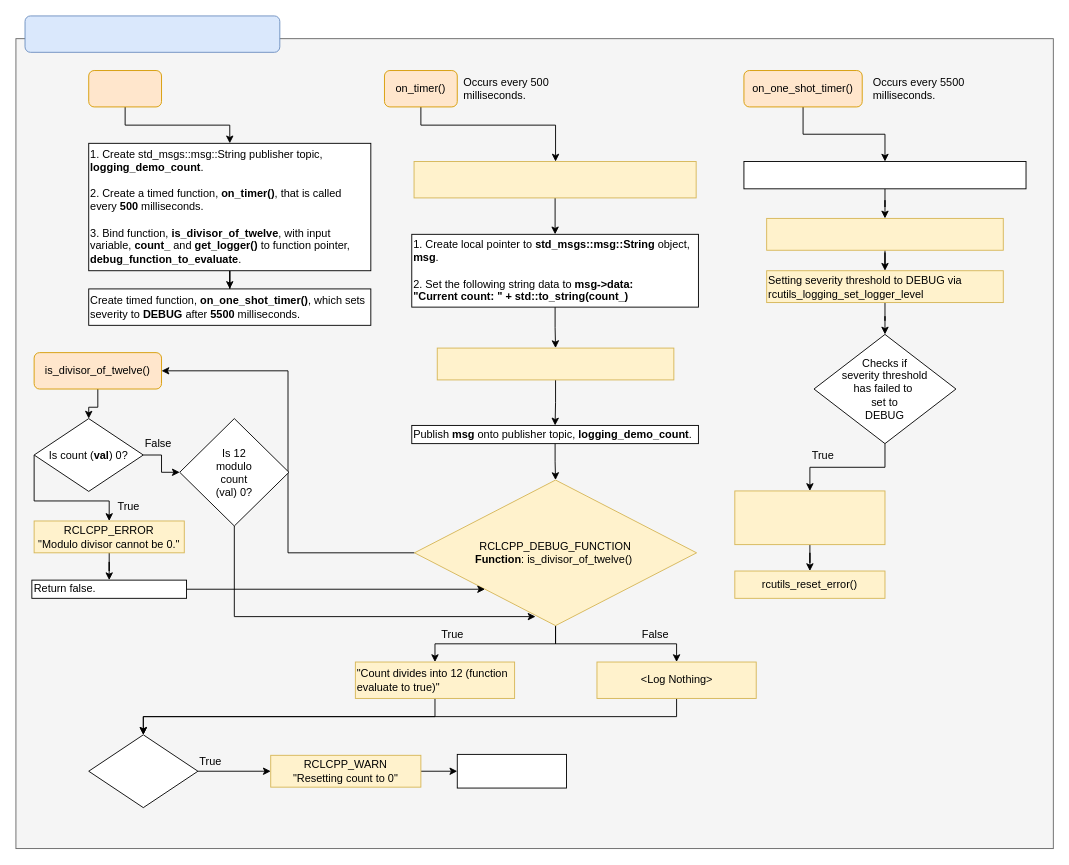
Some shapes in this 1069 by 865 pixel diagram are drawn without their labels. Each missing label, with the box of its shape:
1. Cancel timed function, one_shot_timer_.: (743, 161, 1026, 189)
Constructor: (88, 70, 162, 107)
Is count more than 15?: (88, 734, 198, 808)
logger_usage_demo: (24, 15, 280, 52)
RCLCPP_ERROR "Error setting severity: %s", rcutils_get_error_string().str: (734, 490, 885, 545)
RCLCPP_INFO "Publishing: '%s', msg->data.c_str()": (436, 347, 674, 380)
RCLCPP_INFO "Setting severity threshold to DEBUG": (766, 217, 1003, 250)
RCLCPP_INFO_ONCE "Timer callback called (this will only log once)": (413, 161, 696, 198)
Set count_ to 0.: (456, 753, 566, 788)
